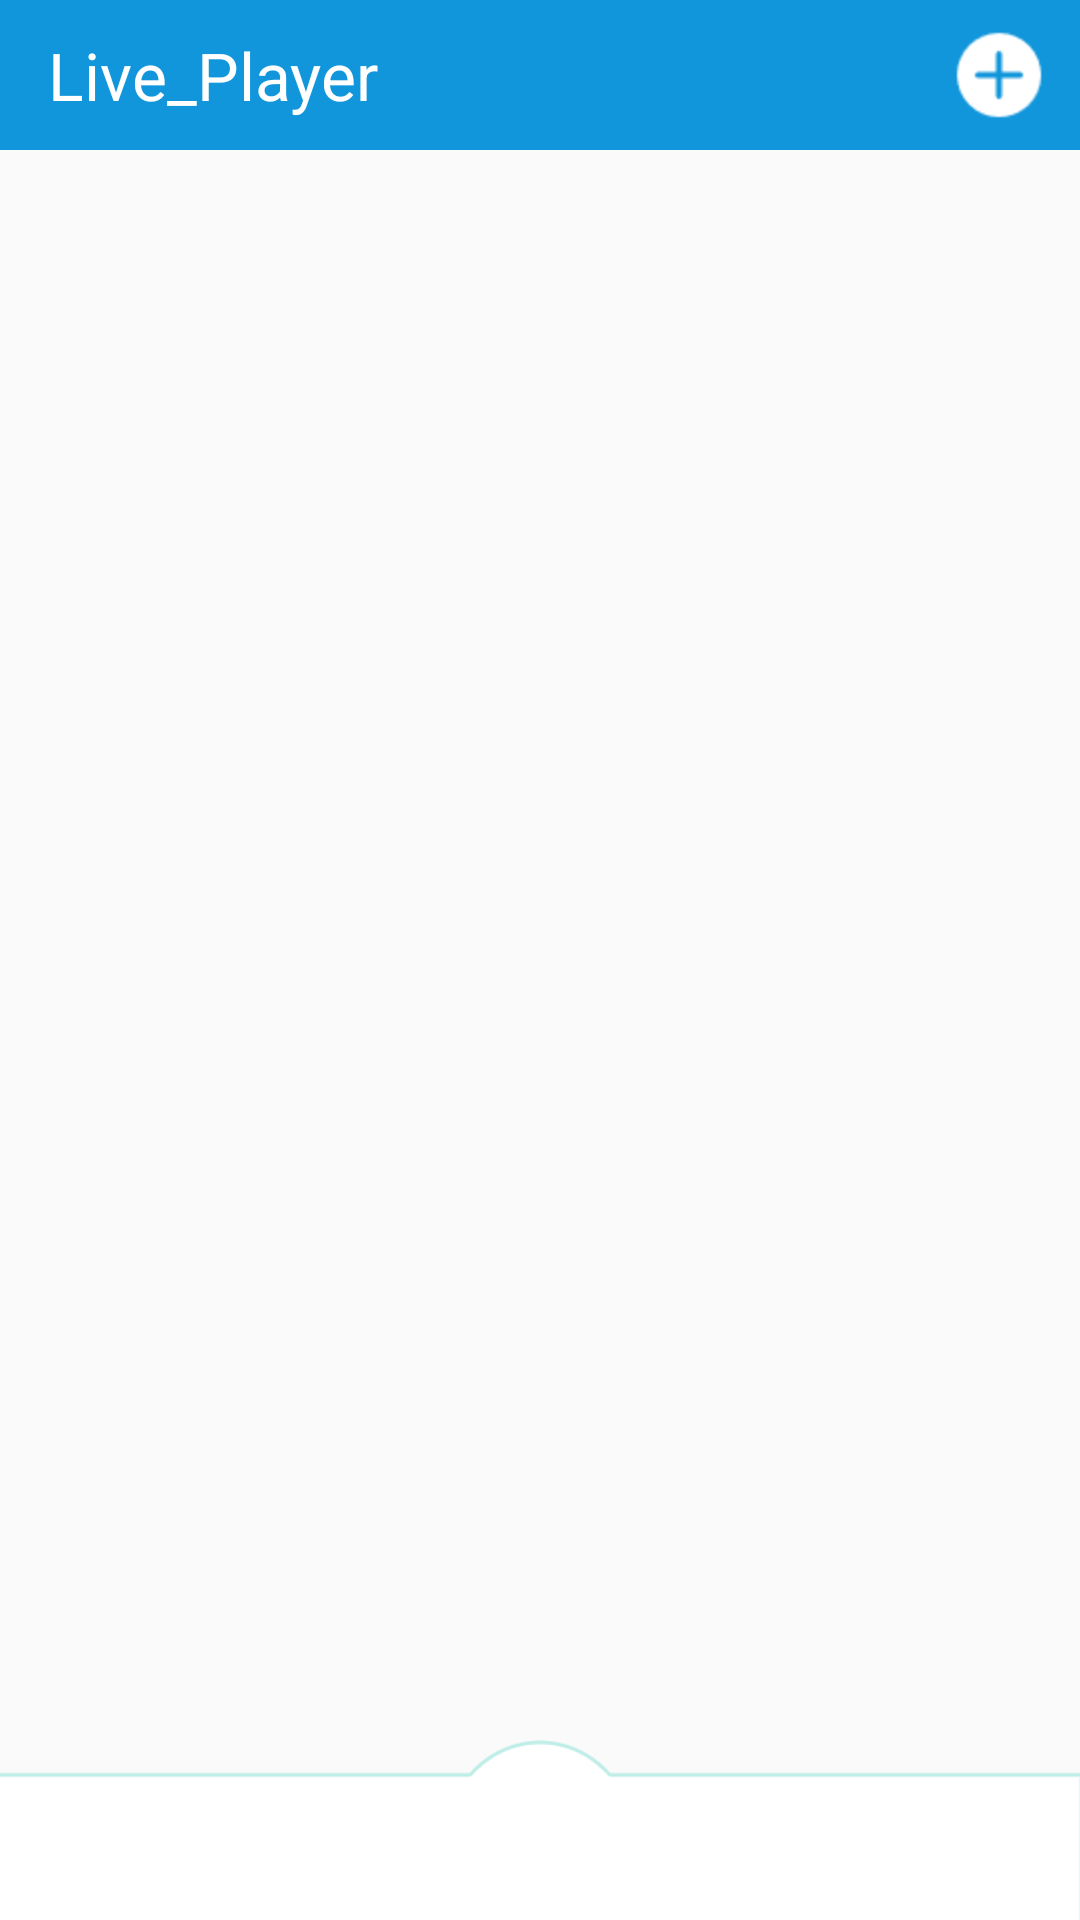

Icons on this 1080px×1920px Android screen, each with its box as (x1=x1, y1=y1, x2=x2, y2=y2):
add: (x1=956, y1=32, x2=1042, y2=118)
